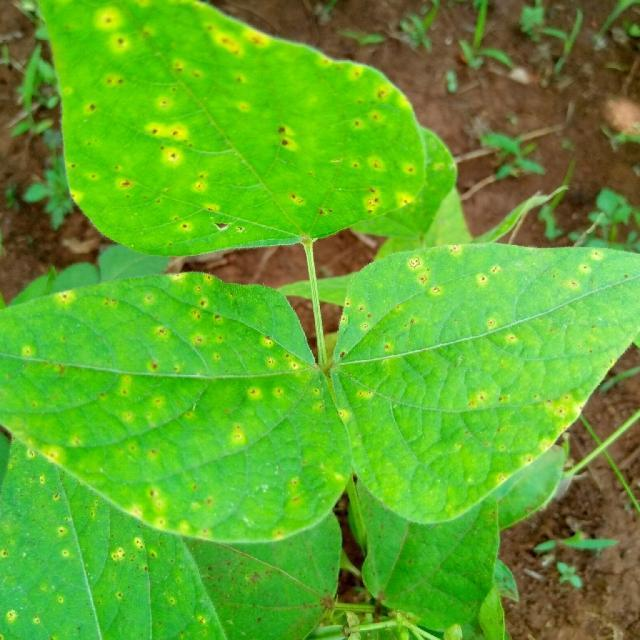hawar: (59, 8, 435, 259), (3, 293, 417, 510), (349, 238, 630, 367)
